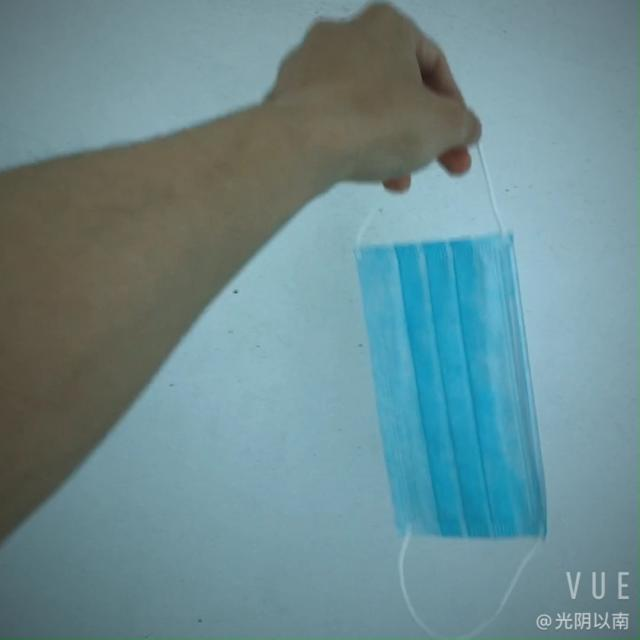non-organic waste: (349, 219, 553, 534)
